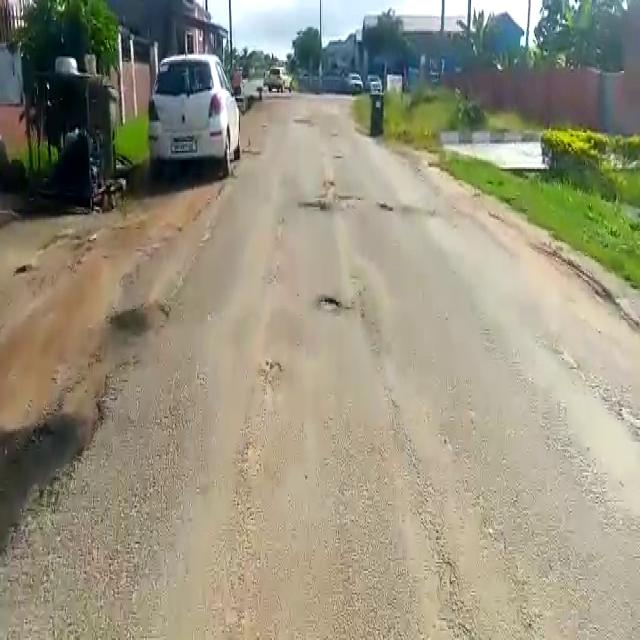Pothole: (317, 297, 347, 314)
